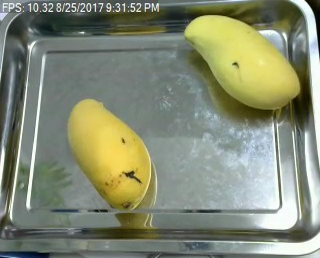Mango: (184, 13, 298, 108), (68, 99, 153, 210)
